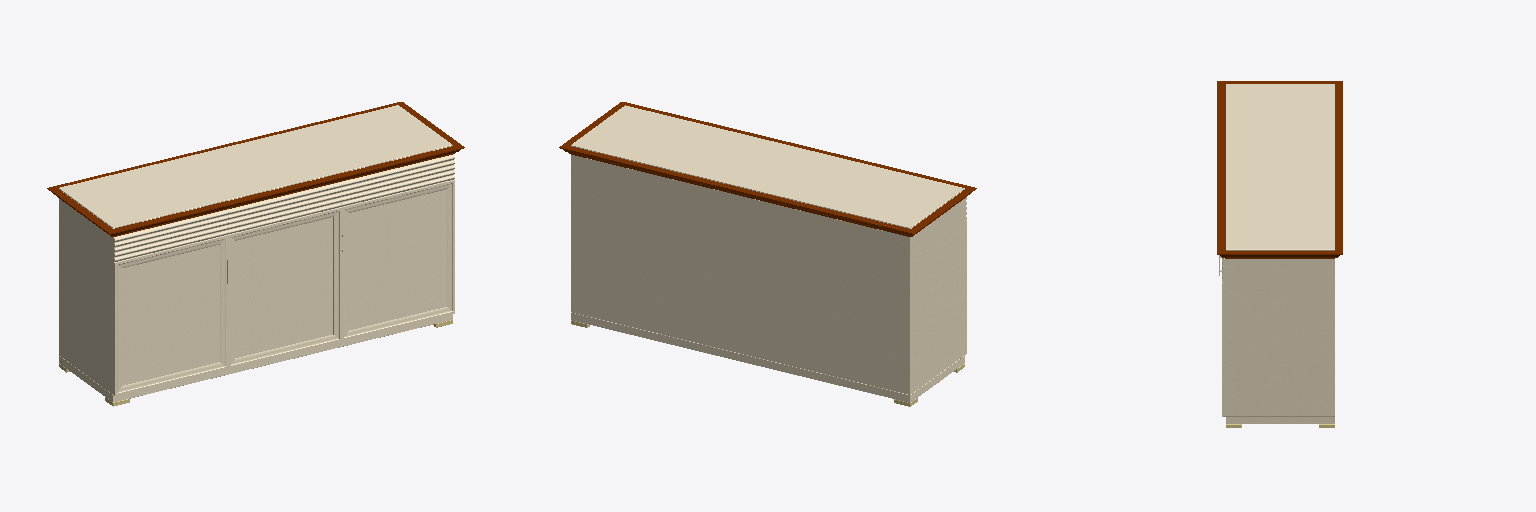
The picture shows the model from 3 angles: view 1: azimuth 30°, elevation 25°; view 2: azimuth 150°, elevation 25°; view 3: azimuth 270°, elevation 25°; orthographic projection.
Visible parts, largest first — view 1: selva7231.001; view 2: selva7231.001; view 3: selva7231.001.
Boxes of the visible parts, box(x1,y1,x2,y2) form: selva7231.001: box(47, 102, 464, 406); selva7231.001: box(559, 102, 976, 406); selva7231.001: box(1217, 81, 1342, 427).
Bounding box in the file's own units: 6.17 × 2.97 × 1.89.
Materials: 6 (1 with a texture image).